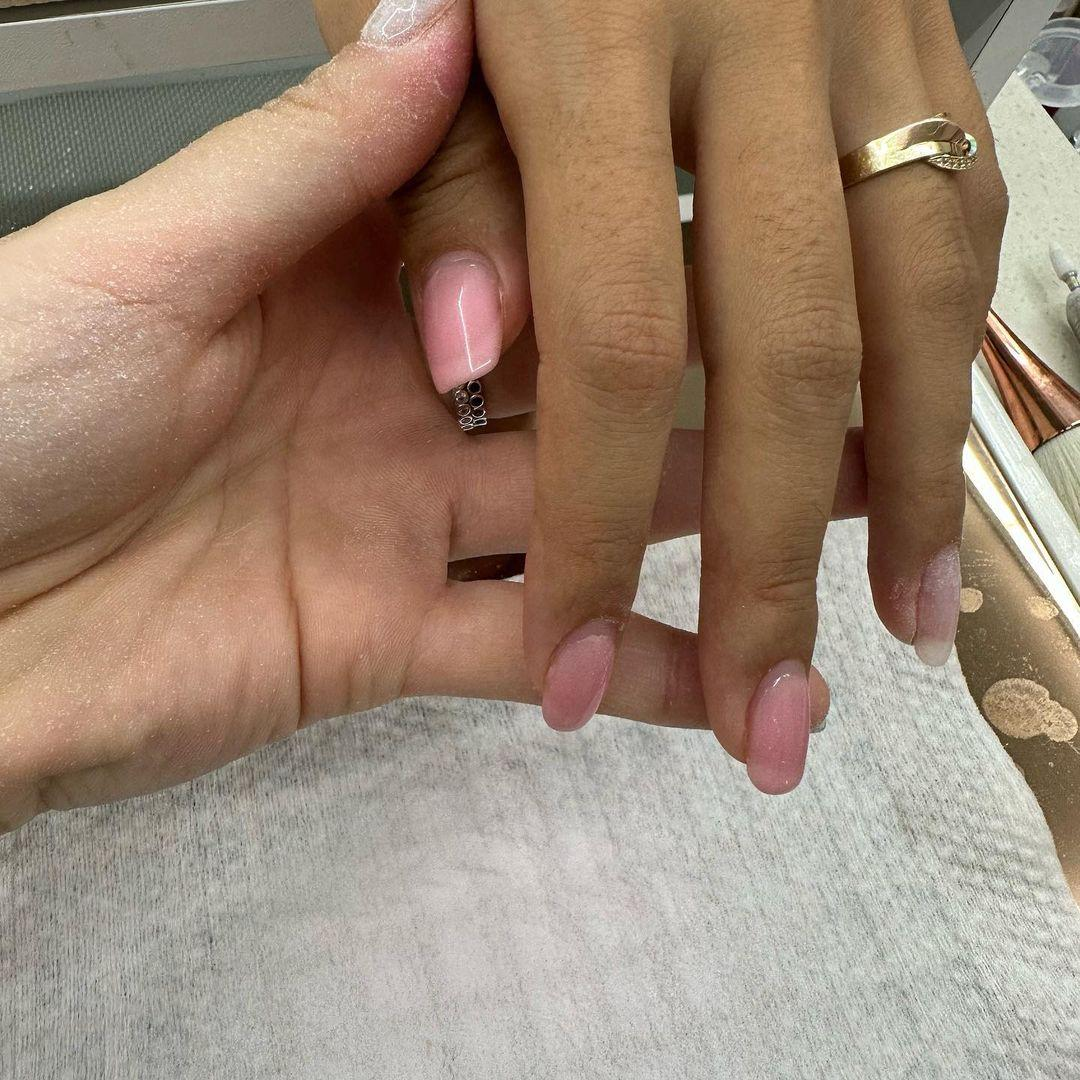nail: (417, 247, 504, 394), (539, 615, 621, 732), (743, 656, 810, 795), (912, 539, 962, 666), (446, 551, 526, 582)
